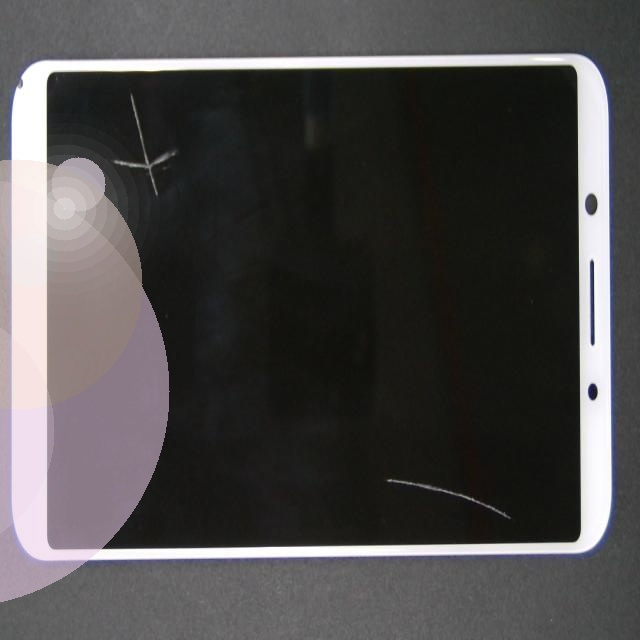scratch: (339, 274, 640, 640), (66, 81, 223, 290)
